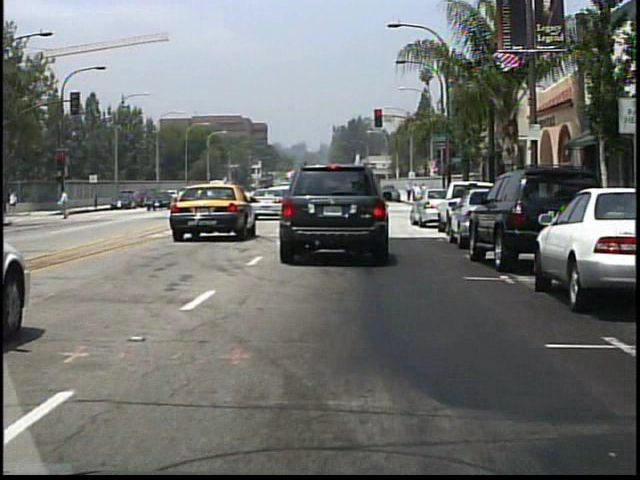person: (408, 181, 428, 215), (59, 186, 73, 222), (7, 189, 19, 215), (420, 180, 428, 203), (405, 181, 413, 203), (413, 180, 420, 203)
